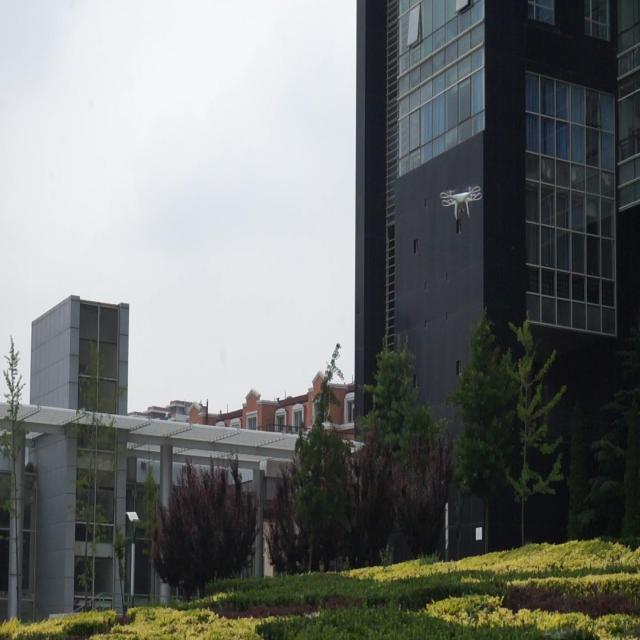UAV: (439, 186, 482, 221)
